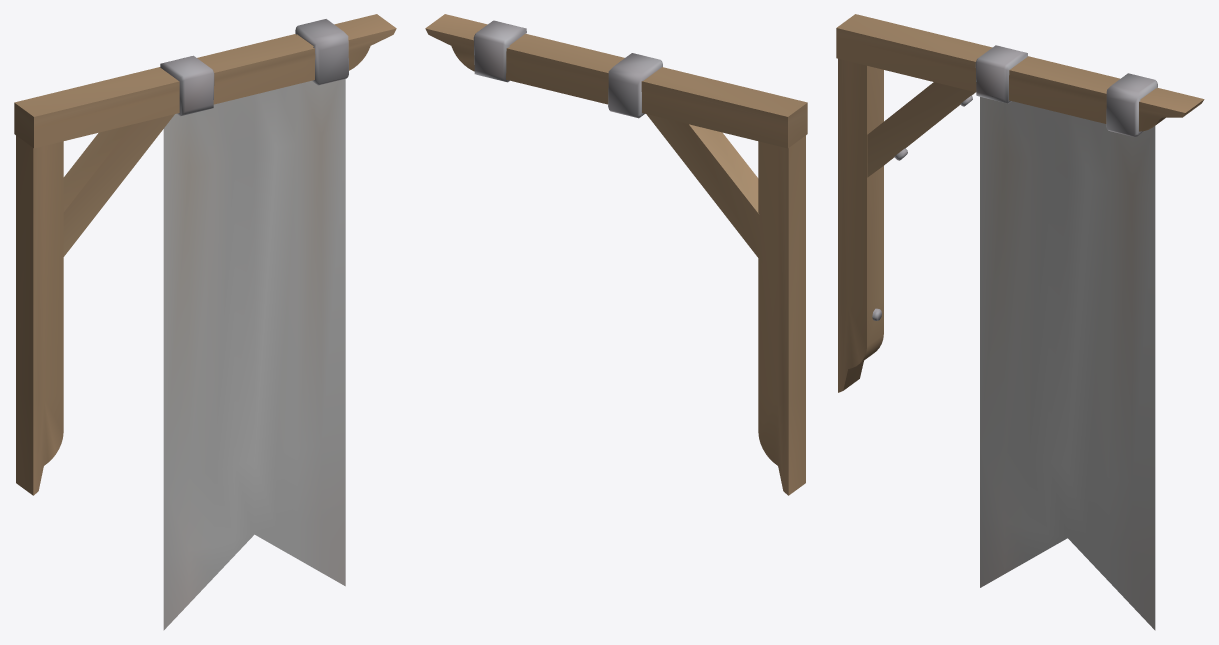
File: Banner_1.glb
3 views of the same model, side by side, from view 1: azimuth 30°, elevation 25°; view 2: azimuth 150°, elevation 25°; view 3: azimuth 330°, elevation 25° (orthographic). The views are drawn at different scales.
Visible parts, largest first — view 1: Banner_1_083b0b, Banner_1, Banner_1_ad449e; view 2: Banner_1, Banner_1_ad449e; view 3: Banner_1_083b0b, Banner_1, Banner_1_ad449e.
Part boxes in pixels (x1,y1,x2,y2): Banner_1_083b0b: [163, 79, 345, 630]; Banner_1: [14, 14, 396, 495]; Banner_1_ad449e: [160, 19, 348, 116]; Banner_1: [425, 14, 807, 495]; Banner_1_ad449e: [473, 20, 662, 118]; Banner_1_083b0b: [980, 97, 1155, 630]; Banner_1: [836, 14, 1204, 392]; Banner_1_ad449e: [872, 45, 1157, 320].
Bounding box in the file's own units: 1.61 × 2.39 × 0.1906.
